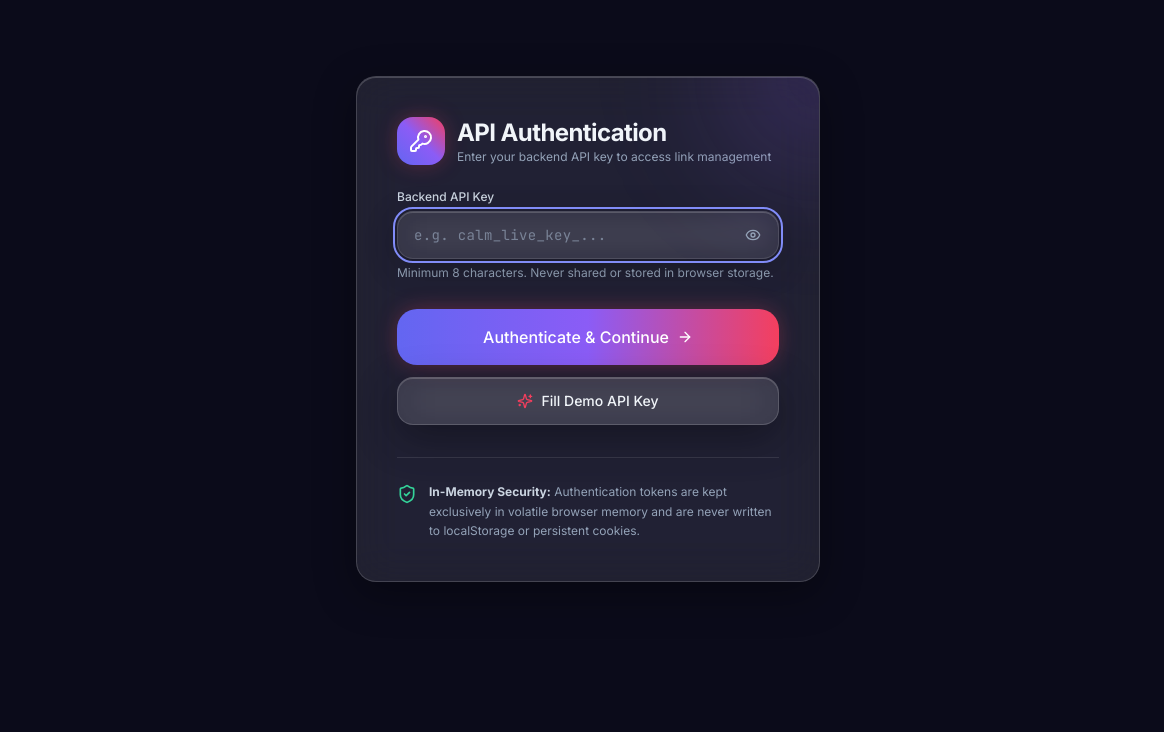
Authentication & Protected Routes (Phase C) › authenticates user and redirects to protected dashboard
The image size is (1164, 732).
Click the button "Fill Demo API Key": (588, 401) [397,377,779,425]
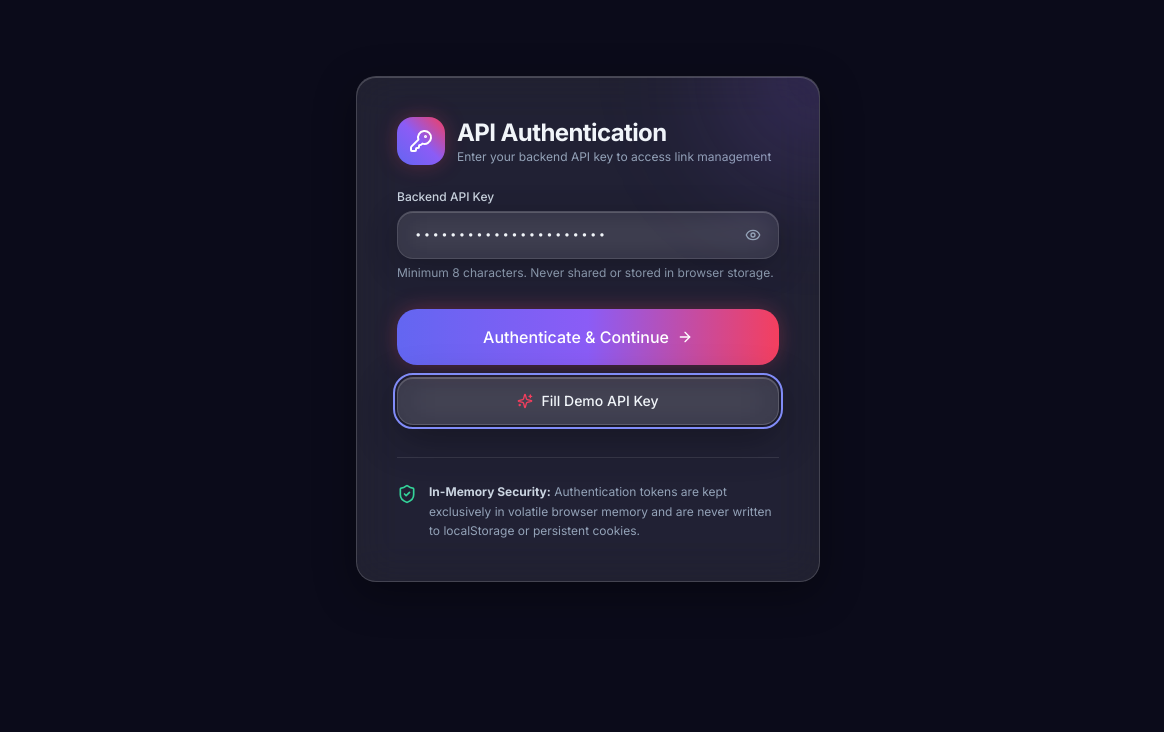
Click the button "Authenticate & Continue": (588, 337) [397,309,779,365]
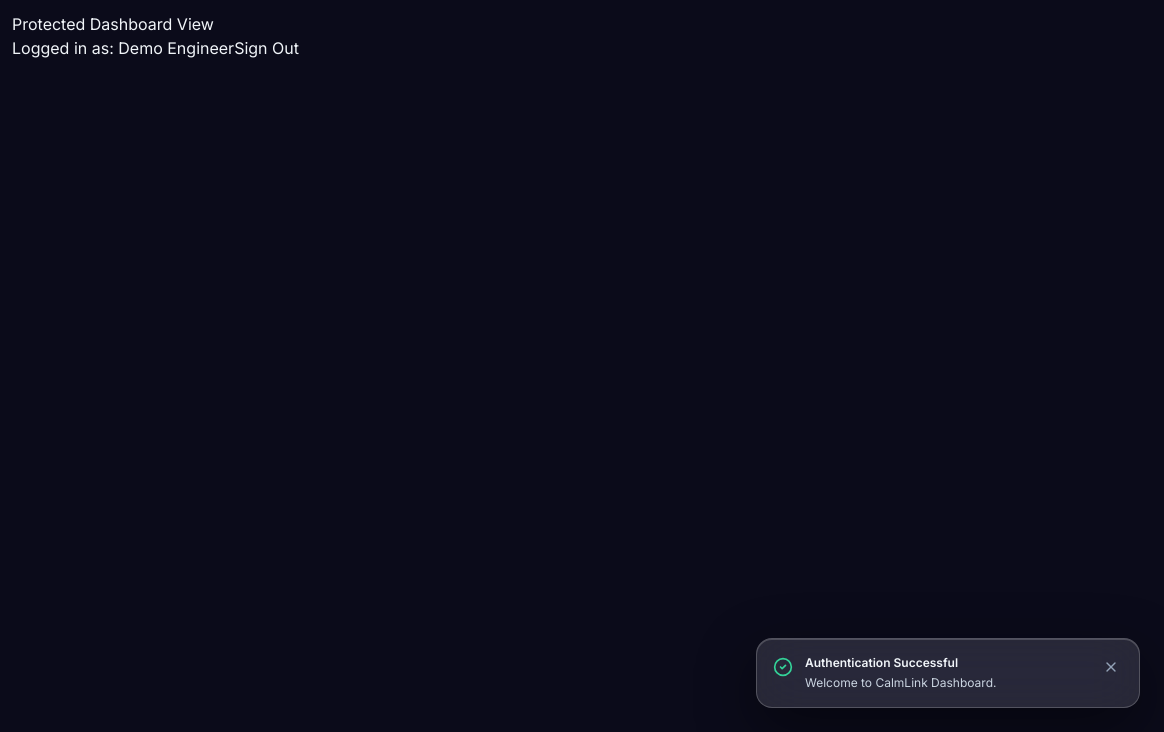
Now the heading "Protected Dashboard View" is shown, box [12,14,214,34]
Now the text "Logged in as: Demo Engineer" is shown, box [12,38,234,58]
